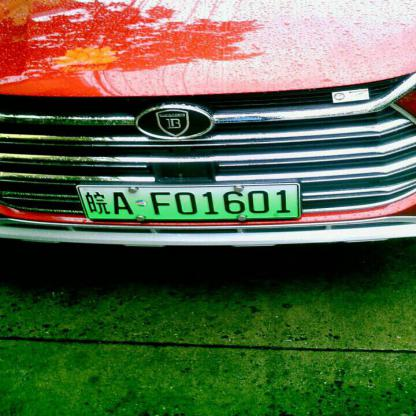lp: (76, 183, 300, 219)
